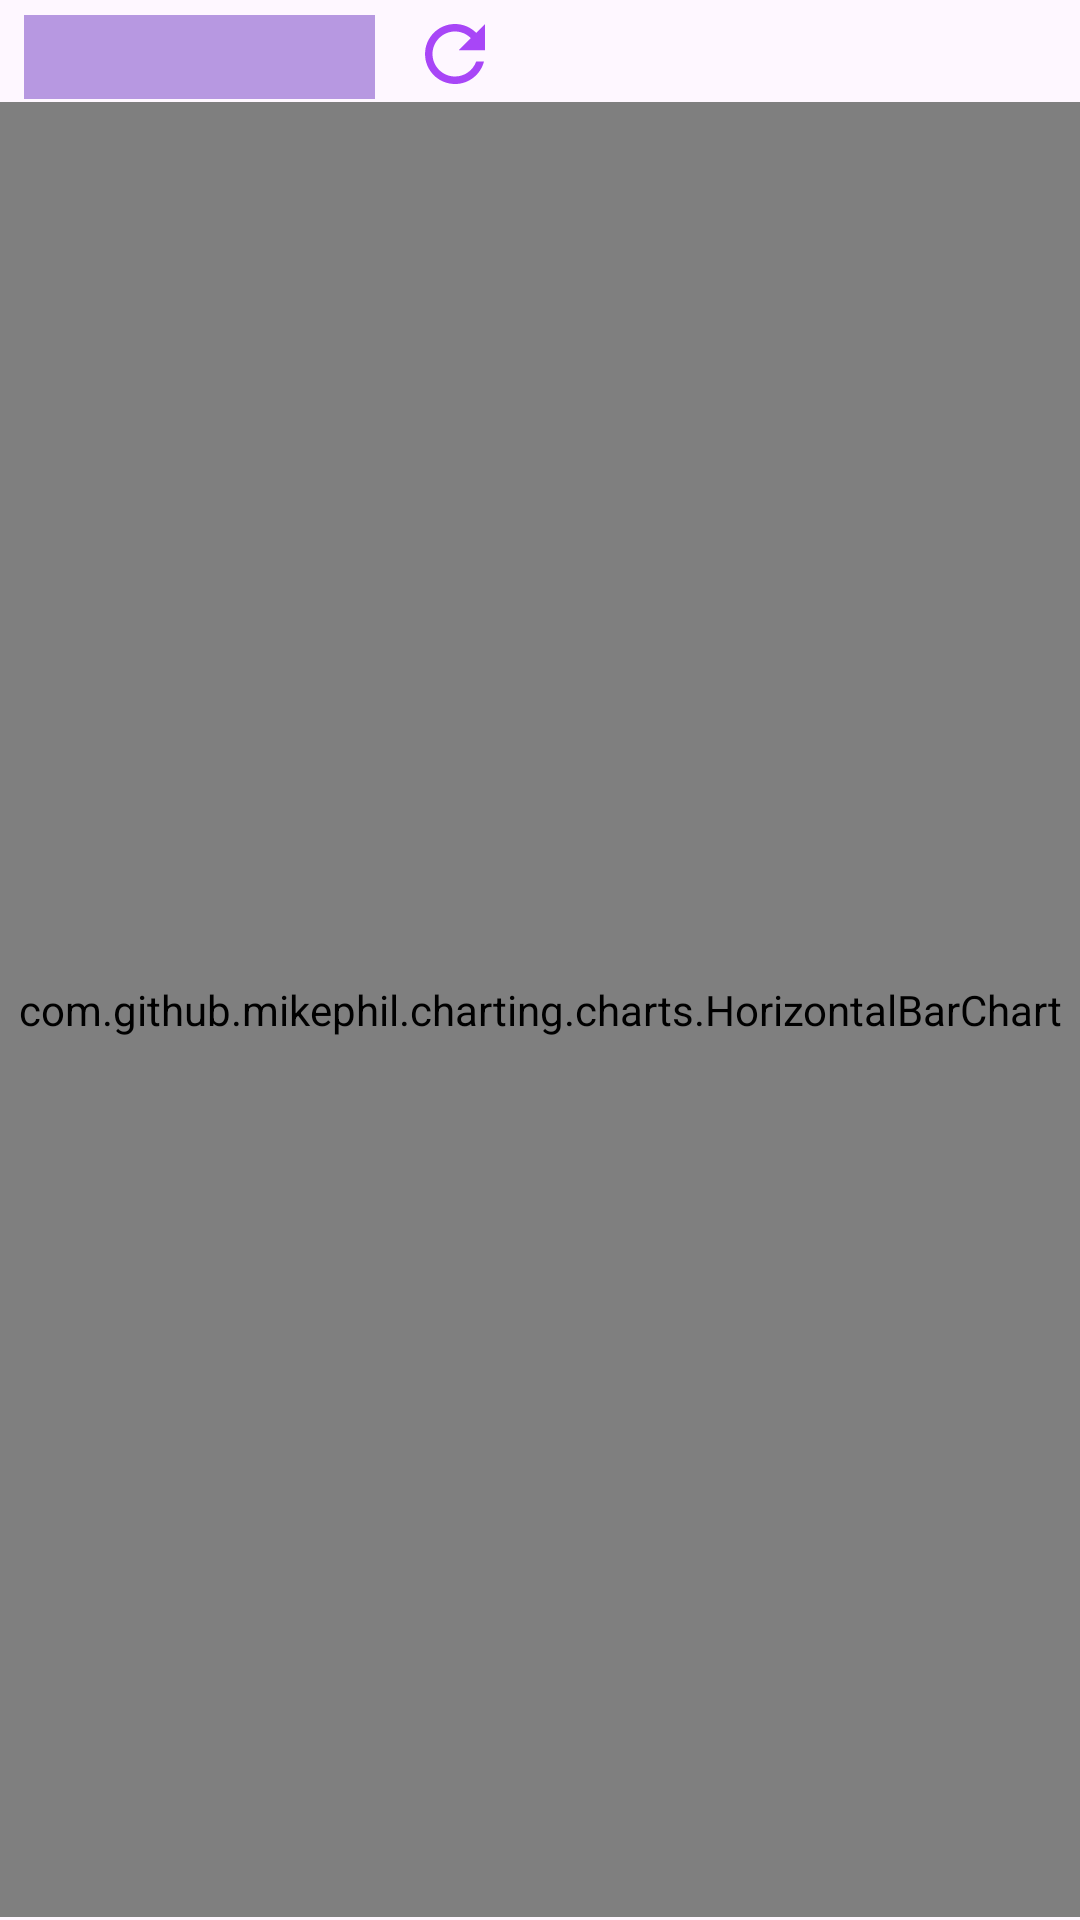

Screen size 1080px x 1920px. Icon name, then its center in pixels as [x,y]:
refresh: [455,54]
